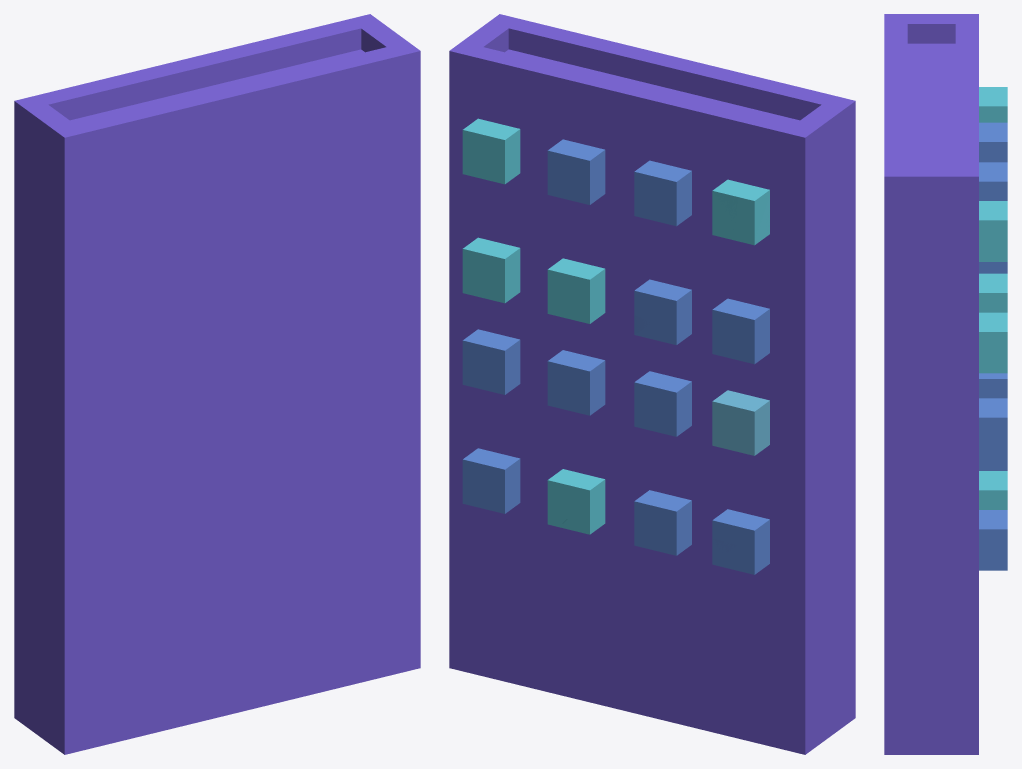
The model's file is color bill.fbx.
3 renders of one model, left to right at view 1: azimuth 30°, elevation 25°; view 2: azimuth 150°, elevation 25°; view 3: azimuth 270°, elevation 25°, orthographic. The views are drawn at different scales.
Visible parts, largest first — view 1: Cube, Cube_cell.006, Cube_cell.003, Cube_cell, Cube_cell.004, Cube_cell.008, Cube_cell.001, Cube_cell.007; view 2: Cube, Cube_cell.001, Cube_cell.003, Cube.014, Cube.003, Cube.013, Cube.004, Cube.009, Cube.001, Cube.005, Cube.002, Cube.007 (+13 smaller); view 3: Cube, Cube_cell.008, Cube_cell.003, Cube_cell.007, Cube.005, Cube.013, Cube.001, Cube.009, Cube.004, Cube_cell.006, Cube.001_cell.003, Cube_cell (+19 smaller).
Part boxes in pixels (box(x1,y1,x2,y2)): Cube: box(14, 14, 420, 754); Cube_cell.006: box(15, 210, 419, 591); Cube_cell.003: box(186, 353, 420, 702); Cube_cell: box(14, 67, 236, 321); Cube_cell.004: box(198, 41, 420, 238); Cube_cell.008: box(278, 95, 420, 352); Cube_cell.001: box(20, 567, 64, 754); Cube_cell.007: box(188, 28, 378, 81); Cube: box(449, 14, 855, 749); Cube_cell.001: box(652, 567, 855, 754); Cube_cell.003: box(449, 404, 665, 716); Cube.014: box(634, 371, 691, 436); Cube.003: box(712, 298, 769, 364); Cube.013: box(462, 329, 520, 394); Cube.004: box(547, 258, 605, 323); Cube.009: box(462, 448, 520, 513); Cube.001: box(462, 237, 520, 303); Cube.005: box(462, 118, 520, 184); Cube.002: box(634, 279, 691, 345); Cube.007: box(712, 181, 769, 245); Cube: box(884, 14, 978, 754); Cube_cell.008: box(884, 188, 978, 459); Cube_cell.003: box(884, 460, 978, 754); Cube_cell.007: box(915, 93, 978, 218); Cube.005: box(979, 201, 1007, 261); Cube.013: box(979, 398, 1007, 459); Cube.001: box(979, 312, 1007, 373); Cube.009: box(979, 510, 1007, 570); Cube.004: box(979, 273, 1007, 312); Cube_cell.006: box(888, 427, 978, 494); Cube.001_cell.003: box(979, 327, 1007, 373); Cube_cell: box(907, 24, 955, 43).
Size of the model in its own units: 506 by 838 by 162.
